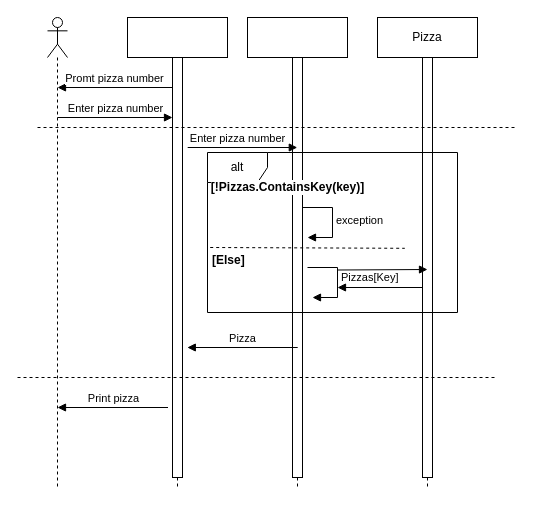
The diagram is 536 pixels wide and 505 high, and some of its shapes have lost their labels. The box of each missing label's shape, as (x1, y1, x2, y2) in pixels:
PizzaMenu: (246, 16, 348, 488)
Program: (126, 16, 228, 488)
